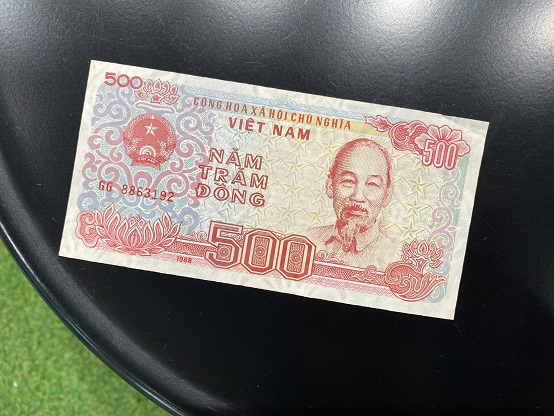500vnd: (62, 59, 488, 321)
